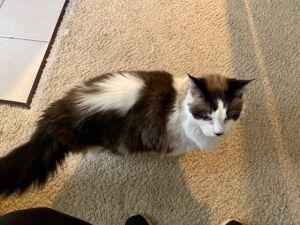ragdoll: (183, 68, 251, 147)
